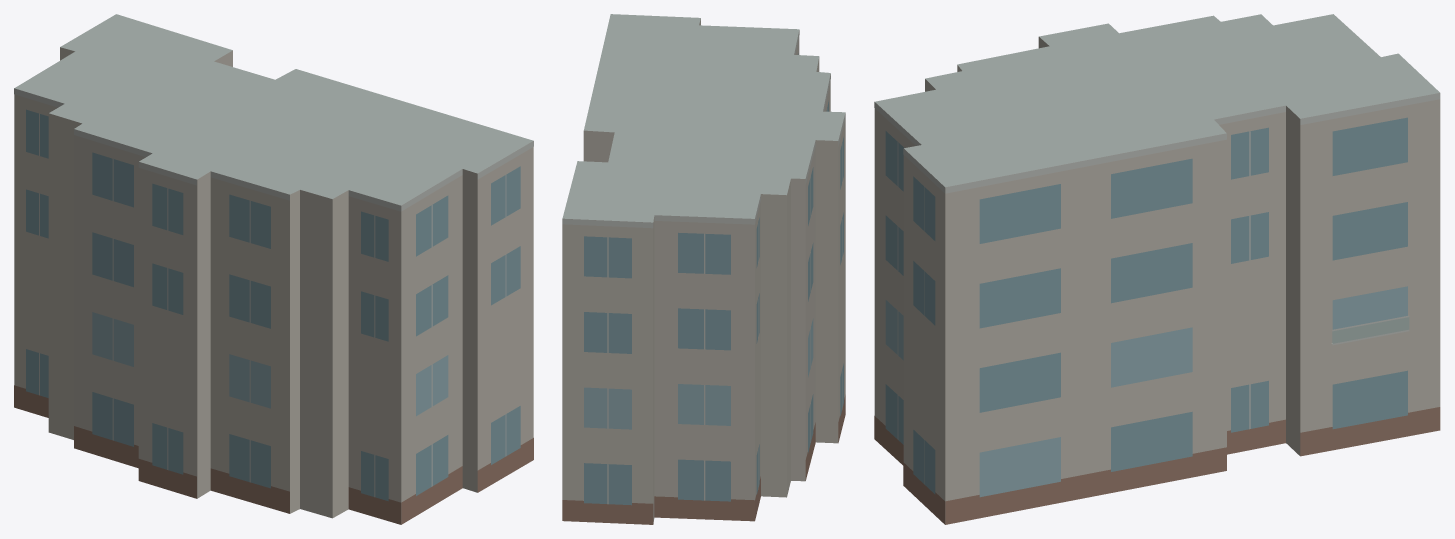
File: survey-upis-32705102.glb
3 views of the same model, side by side, from view 1: azimuth 30°, elevation 25°; view 2: azimuth 150°, elevation 25°; view 3: azimuth 270°, elevation 25° (orthographic). The views are drawn at different scales.
Visible parts, largest first — view 1: survey-upis-32705102.tmp; view 2: survey-upis-32705102.tmp; view 3: survey-upis-32705102.tmp.
Part boxes in pixels (x1,y1,x2,y2): survey-upis-32705102.tmp: [14, 14, 533, 524]; survey-upis-32705102.tmp: [562, 14, 845, 524]; survey-upis-32705102.tmp: [874, 14, 1440, 524].
Bounding box in the file's own units: 14.27 × 12.95 × 19.68.
